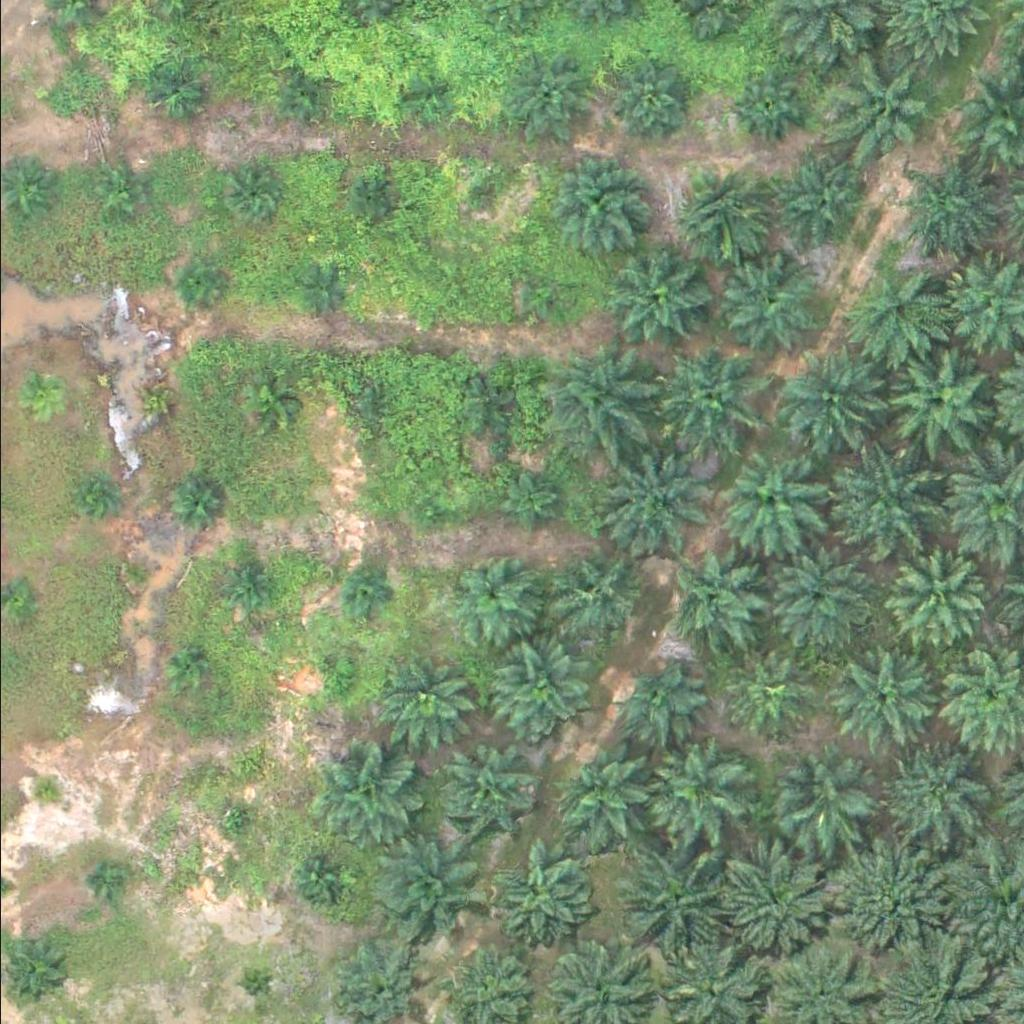Kelapa_Sawit: (829, 841, 955, 966), (713, 836, 838, 961), (593, 445, 706, 558), (823, 443, 936, 556), (614, 845, 727, 958), (365, 836, 478, 949), (649, 344, 762, 456), (541, 340, 654, 452), (553, 743, 654, 843), (484, 638, 585, 738), (760, 549, 861, 649), (666, 549, 767, 649), (547, 542, 648, 642), (720, 450, 821, 550), (884, 354, 985, 454), (787, 347, 888, 447), (604, 248, 705, 348), (716, 255, 817, 355), (851, 264, 952, 364), (898, 155, 999, 255), (766, 155, 867, 255), (670, 159, 771, 259), (841, 57, 942, 157), (486, 844, 587, 944), (312, 743, 413, 843), (878, 743, 978, 843), (770, 751, 870, 851), (644, 739, 744, 839), (828, 650, 928, 750), (883, 547, 983, 647), (551, 151, 651, 251), (373, 646, 473, 746), (612, 658, 700, 746), (720, 651, 808, 739), (442, 745, 530, 833), (444, 556, 533, 643), (506, 49, 594, 136), (607, 55, 695, 142), (724, 70, 800, 145), (222, 165, 285, 228), (143, 60, 206, 123), (502, 472, 565, 534), (245, 376, 296, 426), (165, 473, 216, 523), (8, 368, 59, 418), (294, 851, 345, 901), (343, 169, 394, 219), (299, 269, 350, 319), (136, 381, 187, 431), (86, 168, 136, 218), (516, 272, 566, 322), (451, 168, 501, 218), (457, 383, 507, 433), (277, 70, 327, 120), (221, 557, 271, 607), (344, 570, 394, 620), (321, 660, 359, 698), (170, 651, 208, 689), (214, 803, 252, 841), (233, 965, 271, 1003), (24, 771, 62, 809), (182, 266, 219, 304), (354, 389, 392, 426), (409, 494, 447, 531), (47, 74, 85, 111), (85, 855, 123, 892), (124, 552, 162, 589), (75, 478, 112, 515), (404, 76, 441, 113), (2, 583, 39, 620)
